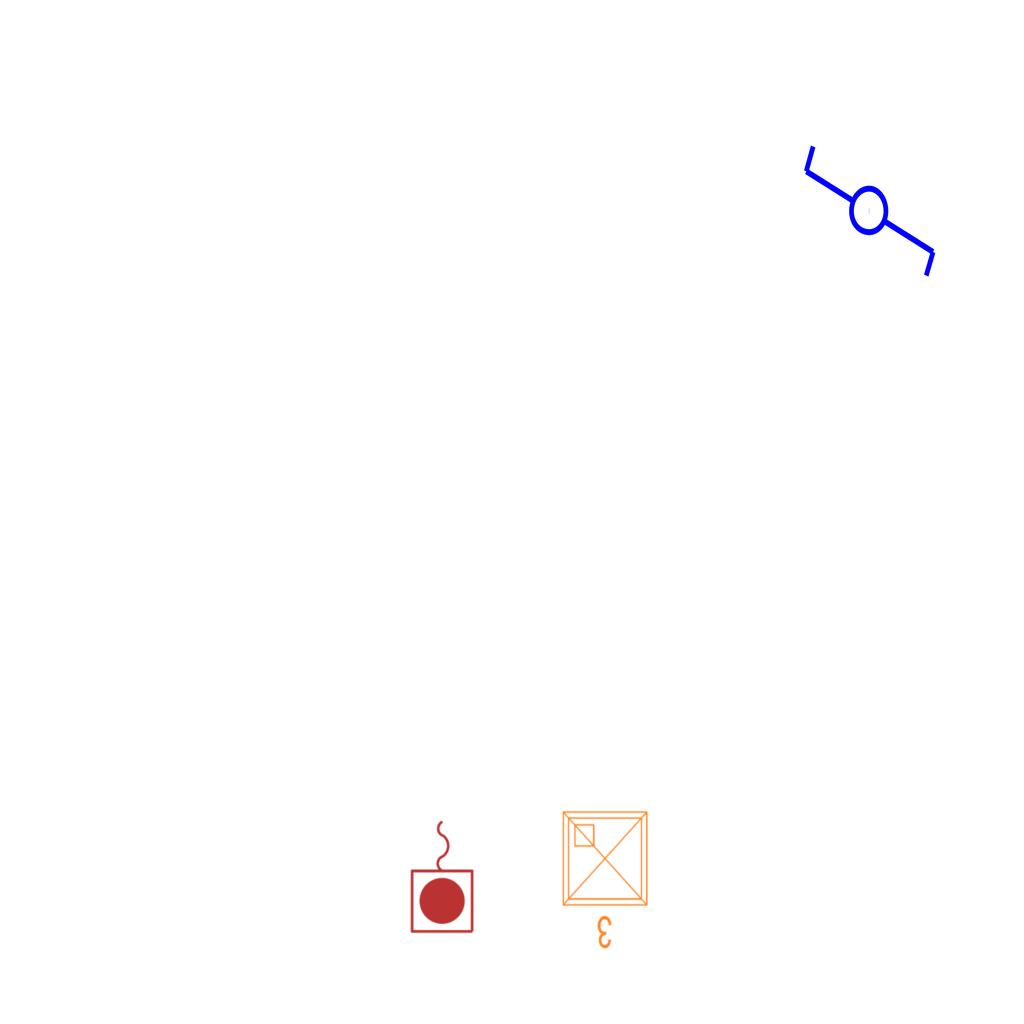Einbaudownlights_LED_Konferenzraeume: (555, 804, 659, 954)
Wechselschalter: (799, 124, 943, 281)
Zugtaster: (407, 815, 479, 937)
